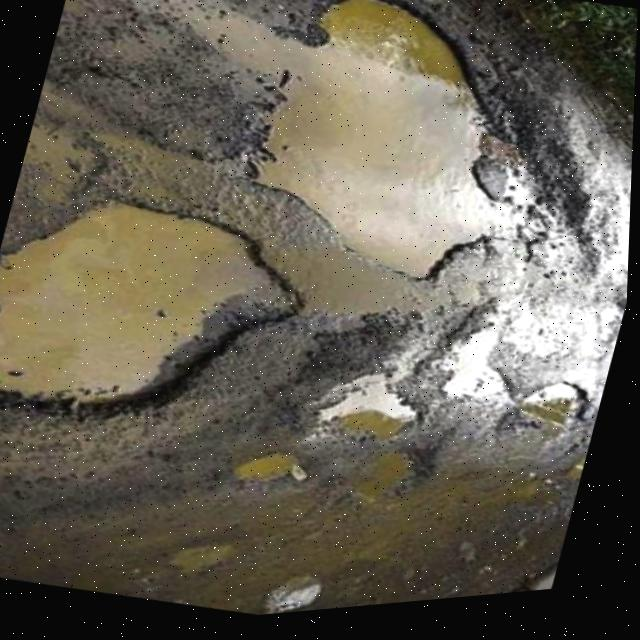Pothole: (164, 0, 637, 360), (0, 117, 361, 537), (281, 334, 454, 481), (412, 296, 548, 447), (477, 355, 610, 483), (134, 501, 252, 603), (337, 429, 447, 538), (539, 392, 607, 517), (233, 438, 322, 510), (243, 555, 337, 622), (577, 217, 632, 324), (587, 308, 630, 412)
